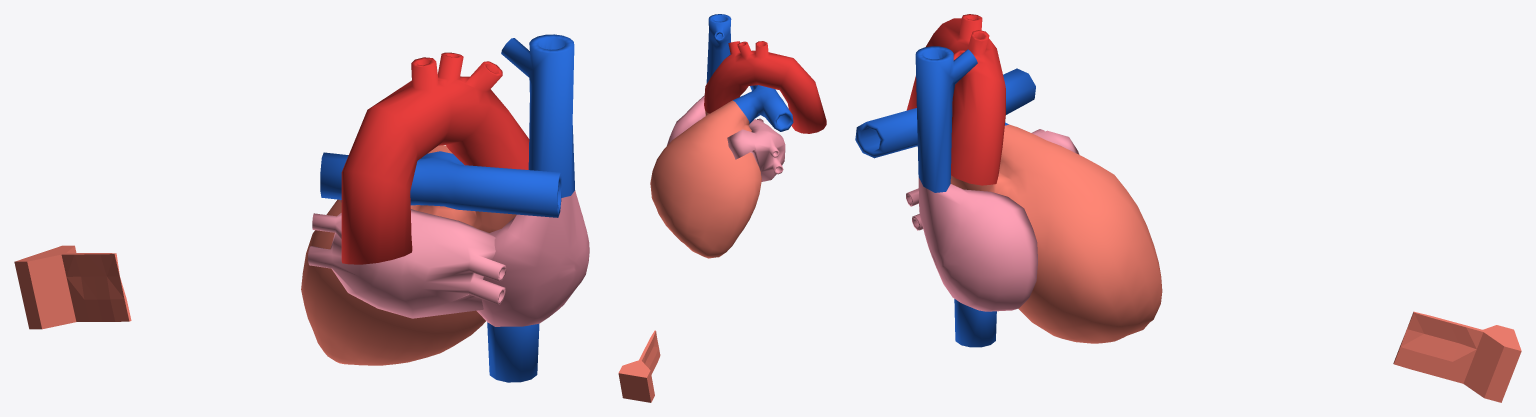
The model's file is heart.dae.
3 renders of one model, left to right at view 1: azimuth 30°, elevation 25°; view 2: azimuth 150°, elevation 25°; view 3: azimuth 270°, elevation 25°, orthographic. The views are drawn at different scales.
Visible parts, largest first — view 1: аорта, праве_передсердя, шлуночки, вени_порожнисті, ліве_передсердя, вена_легенева, Розріз; view 2: шлуночки, аорта, праве_передсердя, Розріз, вена_легенева, вени_порожнисті, ліве_передсердя; view 3: шлуночки, ліве_передсердя, аорта, вени_порожнисті, Розріз, вена_легенева, праве_передсердя.
Part boxes in pixels (x1,y1,x2,y2): аорта: (341,52,529,264); праве_передсердя: (308,199,506,318); шлуночки: (301,145,516,365); вени_порожнисті: (487,34,574,382); ліве_передсердя: (476,190,589,326); вена_легенева: (320,151,561,217); Розріз: (14,245,131,329); шлуночки: (650,100,761,258); аорта: (704,41,826,133); праве_передсердя: (727,118,785,181); Розріз: (618,330,660,402); вена_легенева: (733,85,793,131); вени_порожнисті: (706,14,731,83); ліве_передсердя: (667,95,705,145); шлуночки: (950,124,1162,343); ліве_передсердя: (918,177,1037,311); аорта: (906,14,1005,185); вени_порожнисті: (915,46,996,347); Розріз: (1393,311,1521,402); вена_легенева: (855,68,1035,158); праве_передсердя: (906,129,1079,230).
Bounding box in the file's own units: 4.71 × 11.88 × 8.
